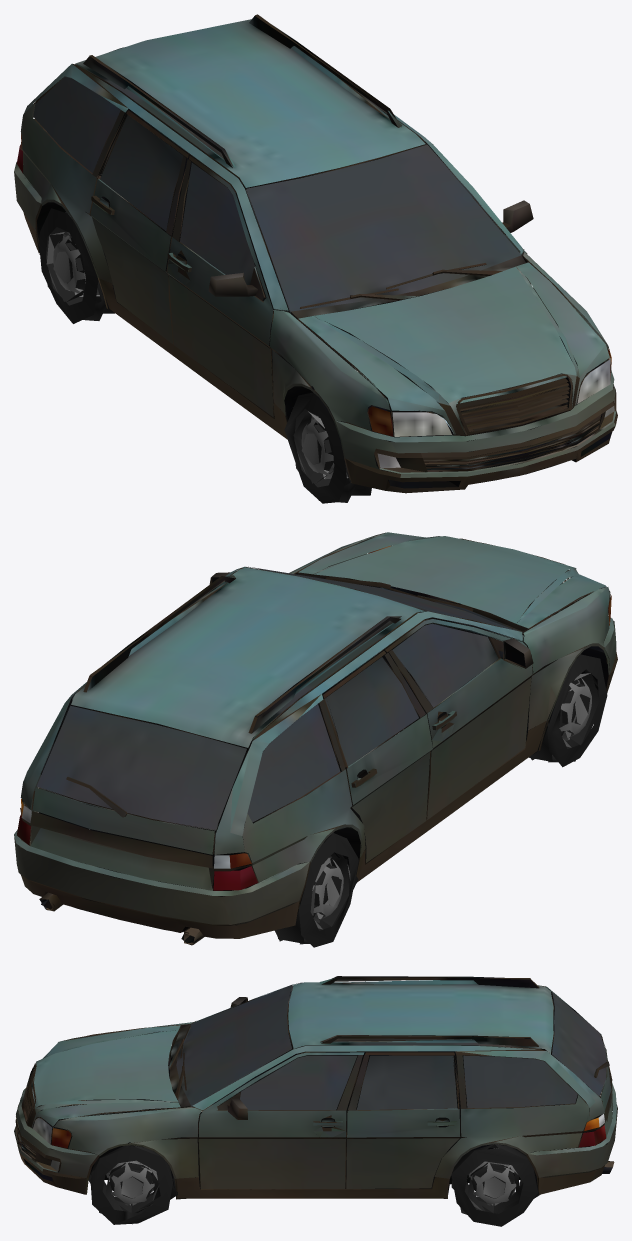
The model's file is pack-wagon-L2.glb.
3 renders of one model, top to bottom at view 1: azimuth 30°, elevation 25°; view 2: azimuth 150°, elevation 25°; view 3: azimuth 270°, elevation 25°, orthographic. The views are drawn at different scales.
Visible parts, largest first — view 1: body, wheel-front-left, wheel-back-left, wheel-back-left.1, wheel-front-left.1; view 2: body, wheel-back-left, wheel-front-left, wheel-back-left.1, wheel-front-left.1; view 3: body, wheel-back-right, wheel-front-right, wheel-front-right.1, wheel-back-right.1.
Part boxes in pixels (<box>): body: <box>14,14,617,493</box>; wheel-front-left: <box>284,392,371,503</box>; wheel-back-left: <box>38,208,114,323</box>; wheel-back-left.1: <box>46,232,99,296</box>; wheel-front-left.1: <box>297,411,348,479</box>; body: <box>14,532,617,945</box>; wheel-back-left: <box>274,833,358,947</box>; wheel-front-left: <box>529,654,607,767</box>; wheel-back-left.1: <box>310,857,350,929</box>; wheel-front-left.1: <box>559,673,591,747</box>; body: <box>14,976,617,1199</box>; wheel-back-right: <box>451,1144,540,1226</box>; wheel-front-right: <box>88,1145,177,1224</box>; wheel-front-right.1: <box>106,1160,158,1205</box>; wheel-back-right.1: <box>467,1148,519,1210</box>.
Size of the model in its own units: 1.95 by 1.44 by 4.39.
Materials: 3 (1 with a texture image).
